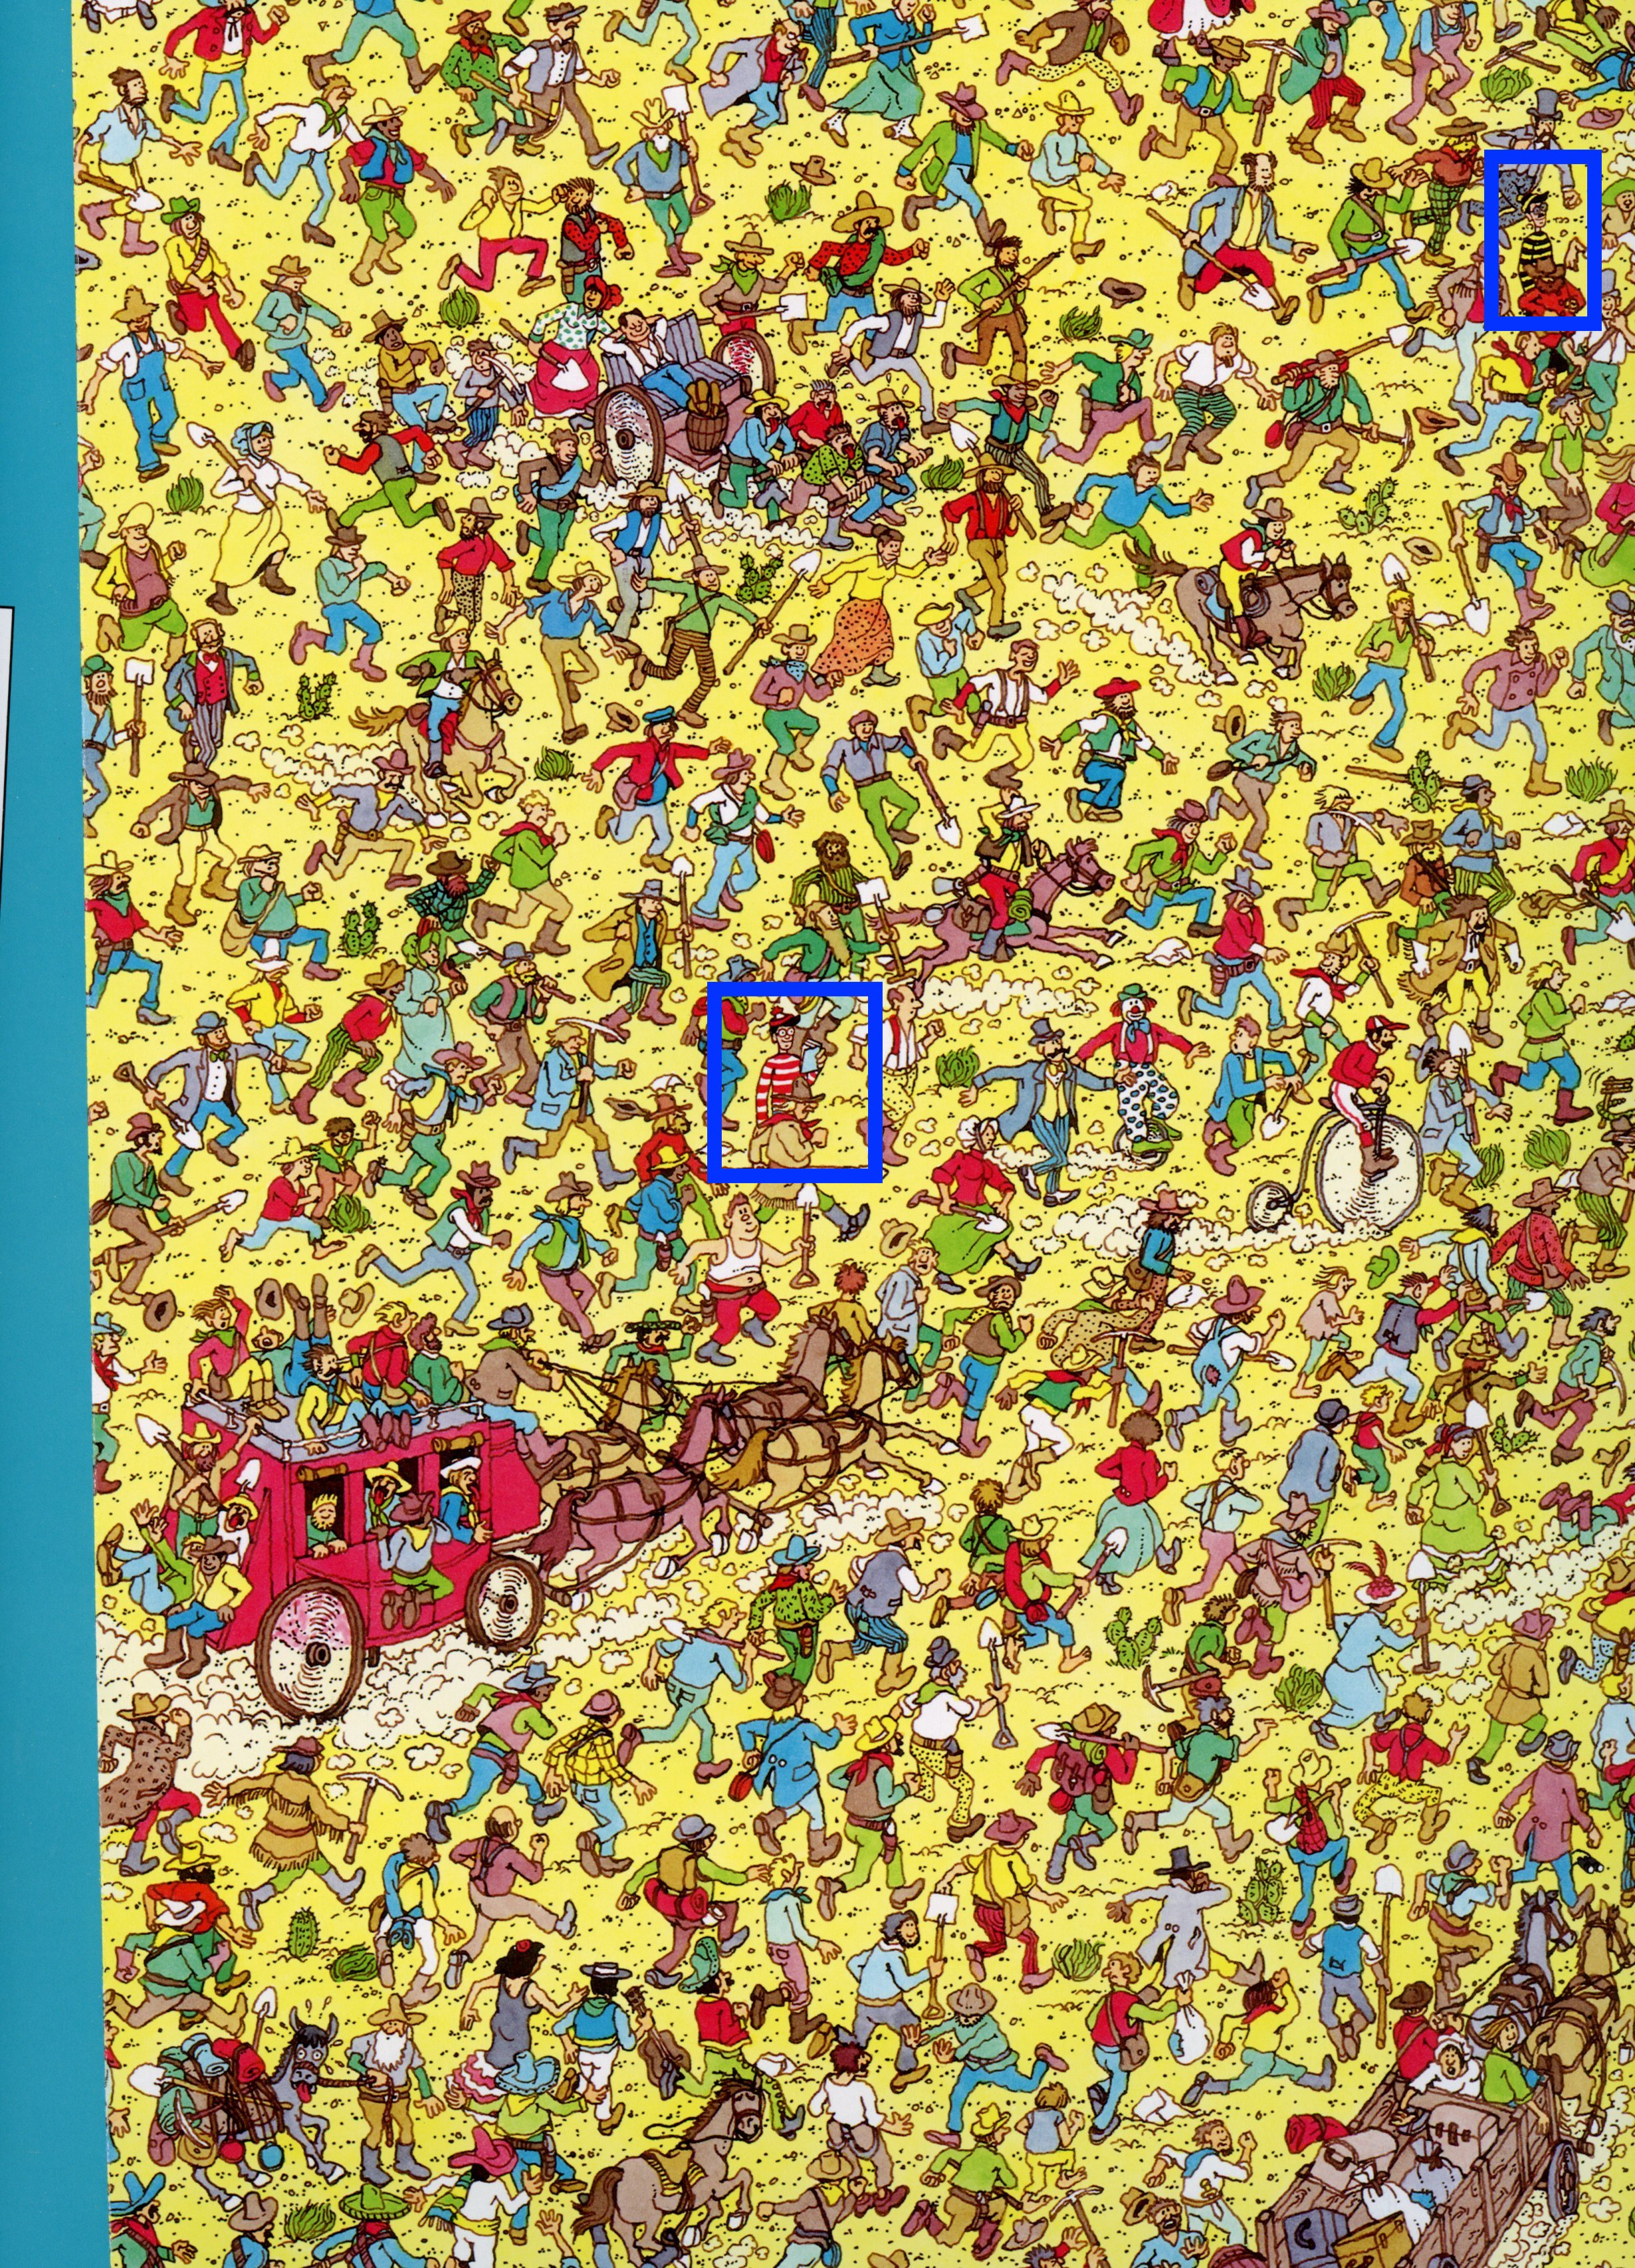odlaw: (1499, 151, 1602, 340)
waldo: (718, 988, 892, 1208)
